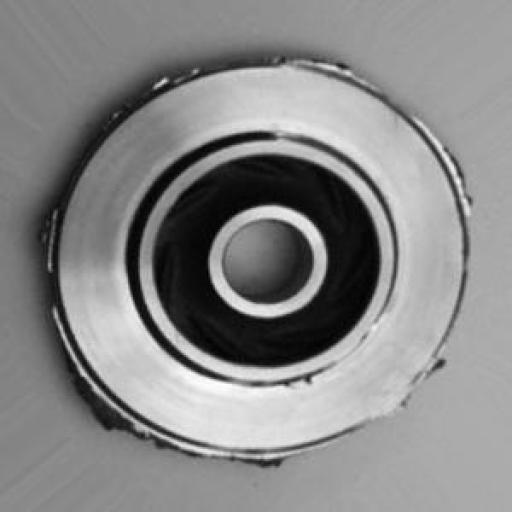defect: (31, 27, 486, 485)
